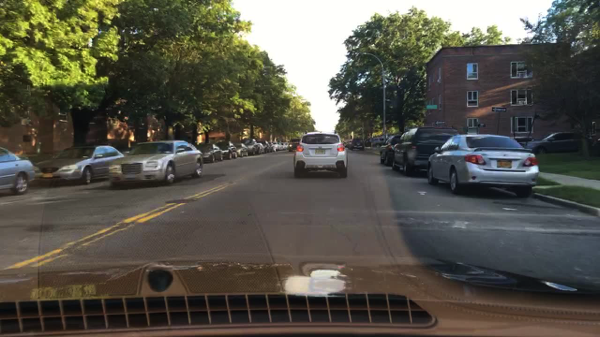car: (427, 131, 540, 200), (109, 140, 203, 187), (391, 126, 458, 174), (40, 147, 124, 184), (294, 132, 347, 179), (0, 147, 37, 196), (527, 132, 586, 155), (381, 134, 400, 166), (200, 143, 222, 166), (220, 141, 238, 162), (511, 136, 534, 151), (235, 142, 250, 158), (288, 138, 301, 153), (370, 135, 385, 148), (348, 138, 363, 150), (252, 142, 263, 156), (260, 140, 270, 154), (267, 141, 278, 153), (246, 144, 256, 157), (278, 142, 290, 151), (361, 136, 370, 147), (276, 141, 282, 153), (343, 141, 348, 148)
traffic sign: (490, 107, 508, 112), (427, 104, 439, 110), (433, 121, 447, 126)
